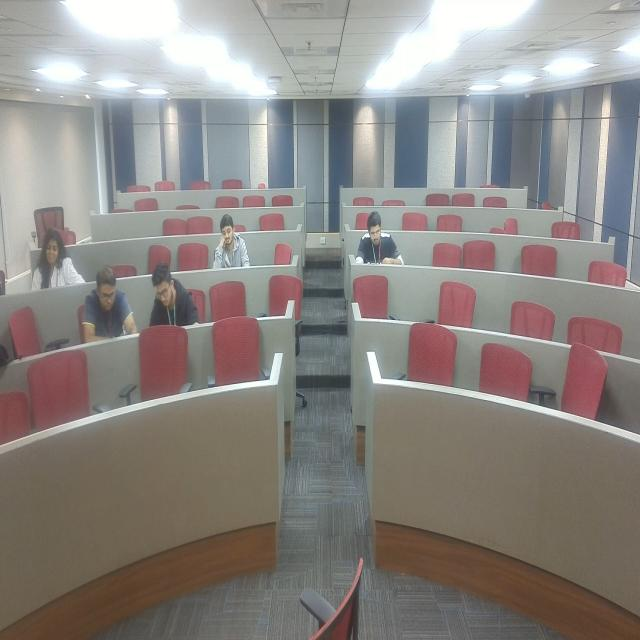cheating: (78, 248, 138, 342), (142, 267, 206, 333)
non-cheating: (340, 194, 408, 274), (27, 200, 83, 290), (200, 192, 256, 280)
